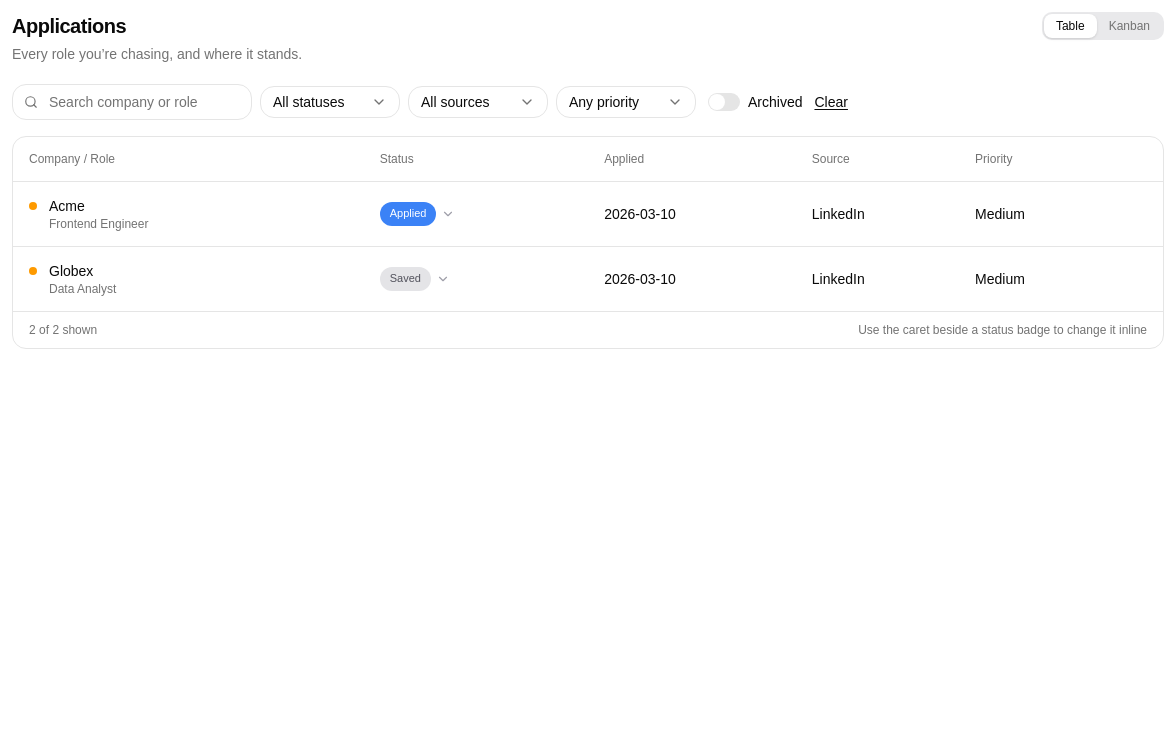
Test: ApplicationsPage › changing a status › goes back to the old status and shows an error when the server fails
Expected: the text "Acme" is shown, [49,196,85,216]
What coordinates should you click on to do the following:
click the button named "Change status" in the row of "Acme"
I would click on:
 (448, 214)
Its box is [438,204,458,224].
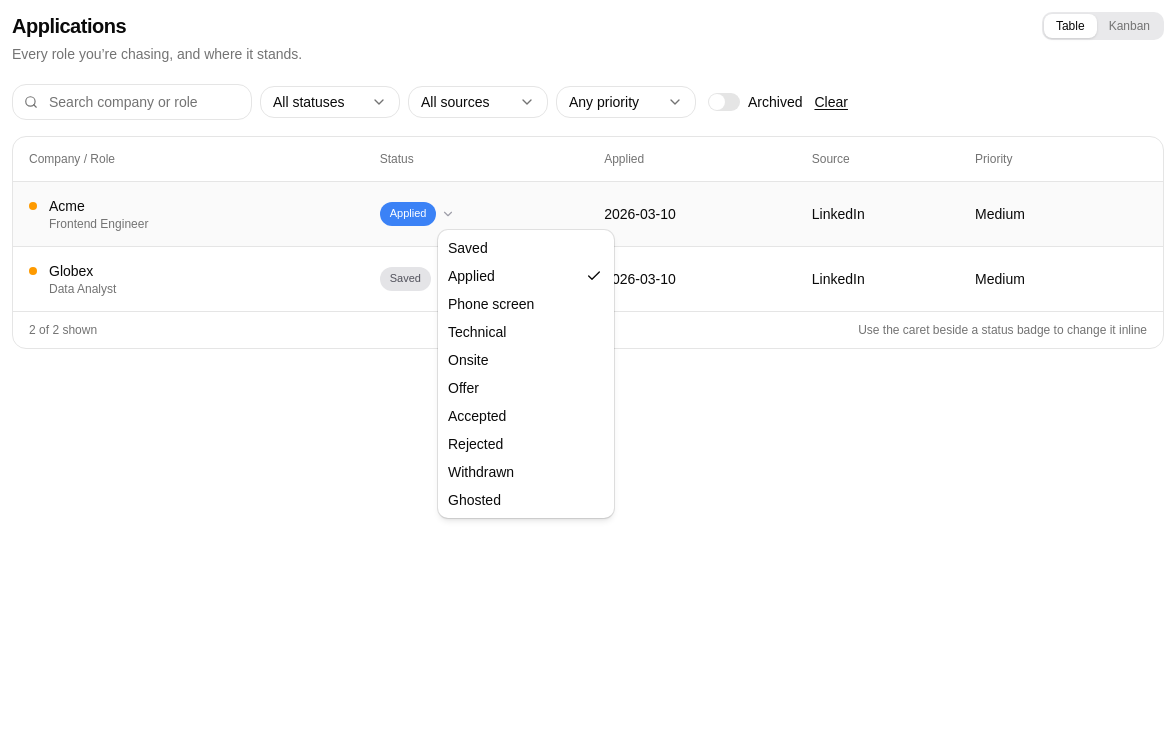
What coordinates should you click on to do the following:
click the menu item "Offer"
I would click on:
 (463, 388)
Its box is [448,380,479,396].
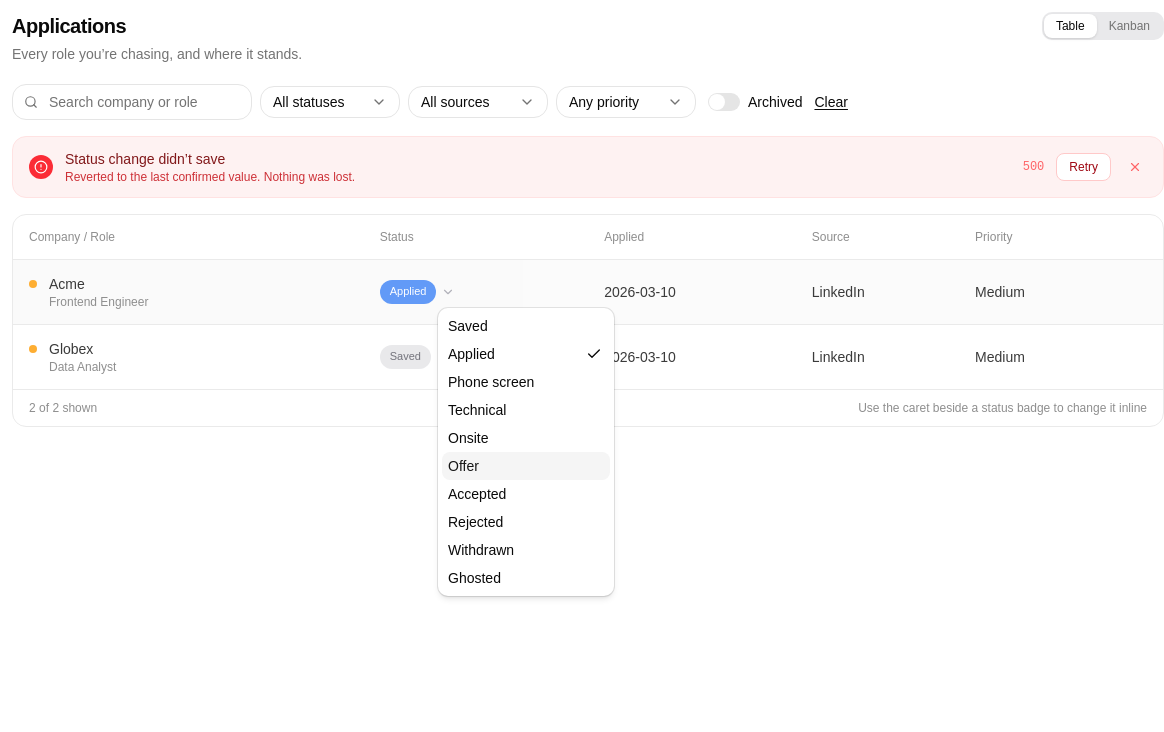
Result: the text "Status change didn’t save" is shown at [65,151,225,167]
